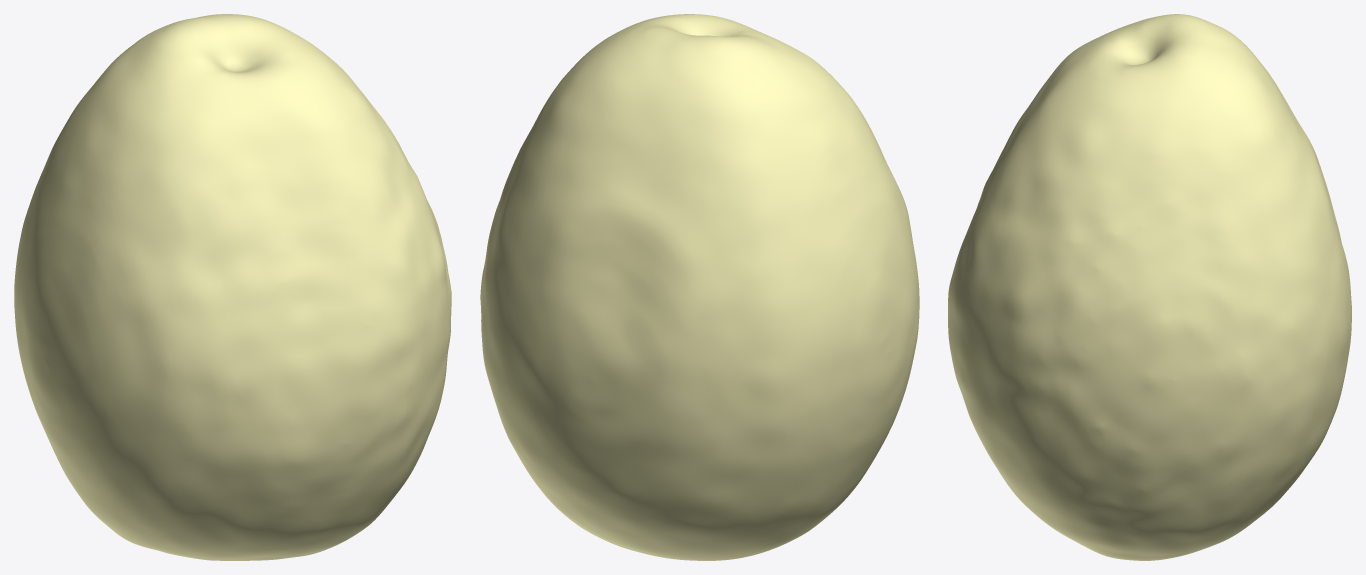
3 renders of one model, left to right at view 1: azimuth 30°, elevation 25°; view 2: azimuth 150°, elevation 25°; view 3: azimuth 270°, elevation 25°, orthographic. The views are drawn at different scales.
Visible parts, largest first — view 1: avocado_export_1.002; view 2: avocado_export_1.002; view 3: avocado_export_1.002.
Part boxes in pixels (<box>): avocado_export_1.002: <box>14,14,451,560</box>; avocado_export_1.002: <box>480,14,919,560</box>; avocado_export_1.002: <box>948,14,1351,560</box>.
Bounding box in the file's own units: 0.6538 × 0.8765 × 0.6427.
